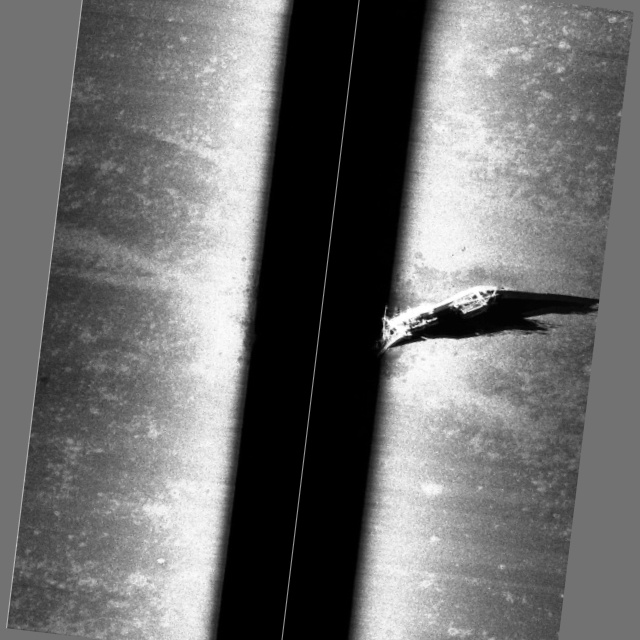Shipwreck: (372, 272, 500, 370)
